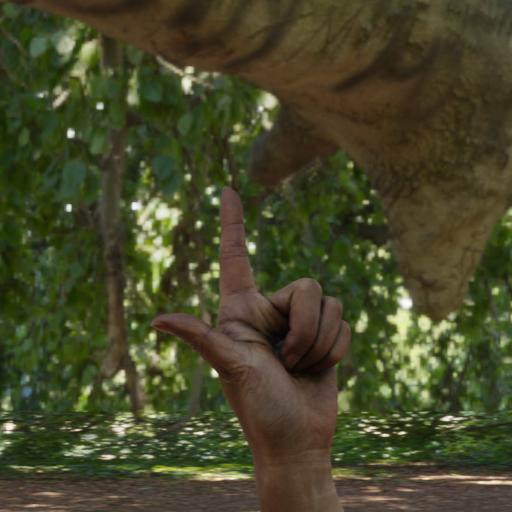L: (138, 180, 374, 484)
